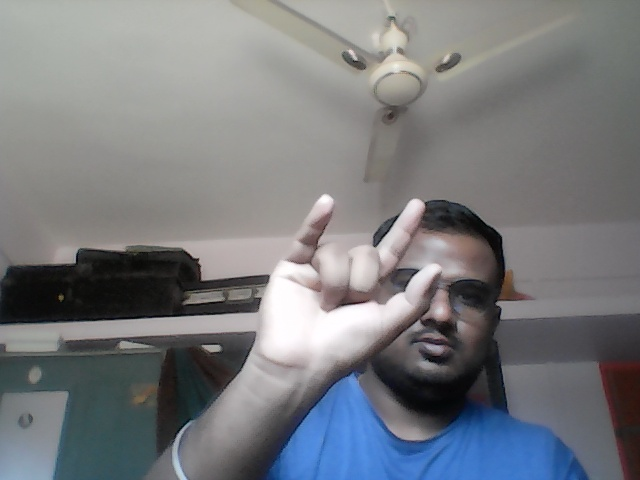I Love You: (254, 189, 444, 384)
